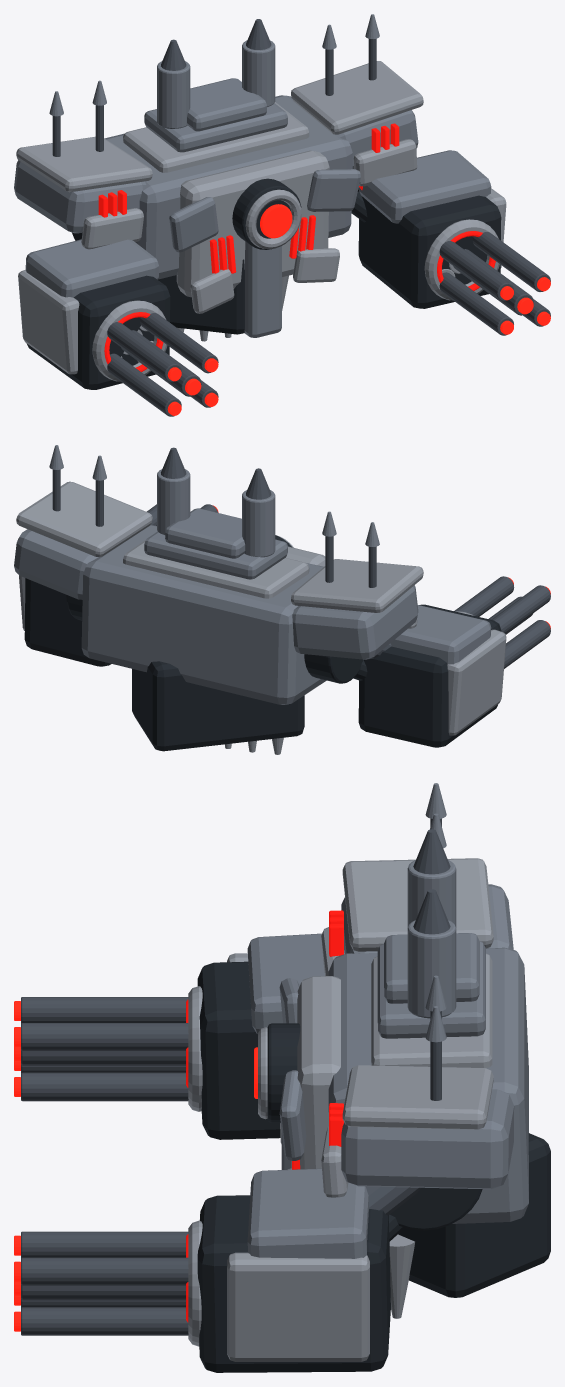
File: leviathan-ai-assault-bot.glb
3 views of the same model, one above another, from view 1: azimuth 30°, elevation 25°; view 2: azimuth 150°, elevation 25°; view 3: azimuth 270°, elevation 25° (orthographic). The views are drawn at different scales.
Visible parts, largest first — view 1: Cannon.Receiver.001, Torso.Main, Torso.FrontArmor, Shoulder.TopPlate.001, Cannon.OuterArmor, Cannon.OuterArmor.001, Cannon.Receiver, Shoulder.TopPlate, Cannon.SideArmor, Dorsal.Armor, Shoulder.Armor, Torso.Keel (+27 smaller); view 2: Torso.Main, Torso.LowerCore, Cannon.Receiver, Shoulder.TopPlate.001, Shoulder.Armor, Shoulder.TopPlate, Cannon.SideArmor, Cannon.Receiver.001, Cannon.OuterArmor, Dorsal.Armor, Shoulder.Armor.001, Dorsal.Armor.002 (+12 smaller); view 3: Cannon.SideArmor.001, Torso.Main, Shoulder.Armor.001, Cannon.Receiver.001, Torso.LowerCore, Cannon.Receiver, Cannon.OuterArmor.001, Shoulder.TopPlate.001, Shoulder.TopPlate, Torso.FrontArmor, Cannon.Barrel.004, Cannon.Barrel.007 (+28 smaller).
Boxes of the visible parts, <box> form: Cannon.Receiver.001: <box>358,195,501,308</box>; Torso.Main: <box>104,95,352,279</box>; Torso.FrontArmor: <box>176,150,329,297</box>; Shoulder.TopPlate.001: <box>291,61,423,134</box>; Cannon.OuterArmor: <box>25,239,158,297</box>; Cannon.OuterArmor.001: <box>358,150,491,223</box>; Cannon.Receiver: <box>26,275,170,389</box>; Shoulder.TopPlate: <box>16,136,152,192</box>; Cannon.SideArmor: <box>18,270,79,374</box>; Dorsal.Armor: <box>123,102,309,172</box>; Shoulder.Armor: <box>14,160,146,233</box>; Torso.Keel: <box>244,241,281,337</box>; Torso.Main: <box>81,525,326,704</box>; Torso.LowerCore: <box>132,661,304,751</box>; Cannon.Receiver: <box>358,604,501,747</box>; Shoulder.TopPlate.001: <box>16,481,152,557</box>; Shoulder.Armor: <box>292,585,418,659</box>; Shoulder.TopPlate: <box>291,559,423,612</box>; Cannon.SideArmor: <box>447,629,506,735</box>; Cannon.Receiver.001: <box>24,578,111,666</box>; Cannon.OuterArmor: <box>390,605,491,664</box>; Dorsal.Armor: <box>123,540,309,598</box>; Shoulder.Armor.001: <box>14,529,98,599</box>; Dorsal.Armor.002: <box>165,508,245,558</box>; Cannon.SideArmor.001: <box>227,1252,369,1361</box>; Torso.Main: <box>328,947,528,1223</box>; Shoulder.Armor.001: <box>341,1089,514,1189</box>; Cannon.Receiver.001: <box>197,1195,390,1372</box>; Torso.LowerCore: <box>398,1133,550,1297</box>; Cannon.Receiver: <box>197,961,280,1139</box>; Cannon.OuterArmor.001: <box>247,1168,368,1258</box>; Shoulder.TopPlate.001: <box>342,1065,493,1129</box>; Shoulder.TopPlate: <box>342,858,493,951</box>; Torso.FrontArmor: <box>297,976,340,1169</box>; Cannon.Barrel.004: <box>21,1072,188,1101</box>; Cannon.Barrel.007: <box>21,1257,188,1285</box>.
Size of the model in its own units: 6.99 by 4.48 by 5.07.
